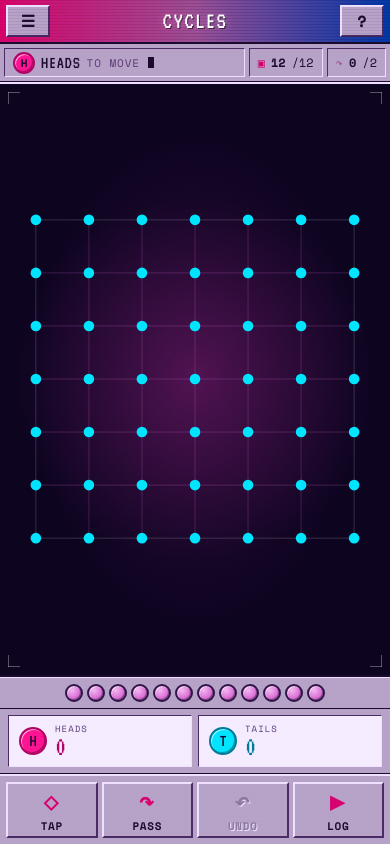
MobileApp › opens bottom sheet when Log is clicked
Click the text "Log" at (338, 826), box [327,818,349,834]
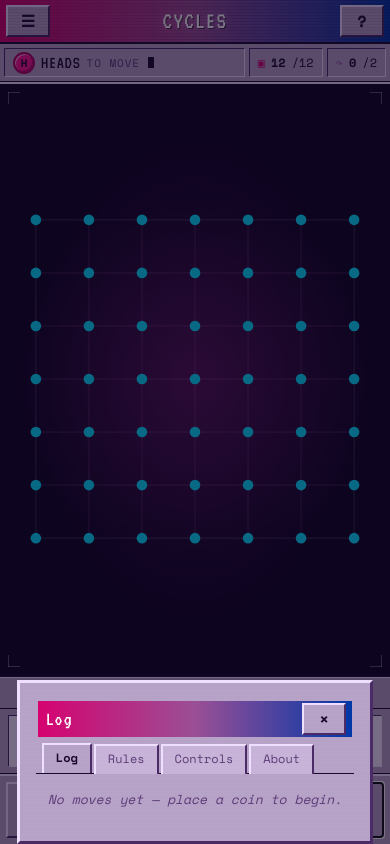
Expected: the button named "Close" is shown, [302,702,346,734]
